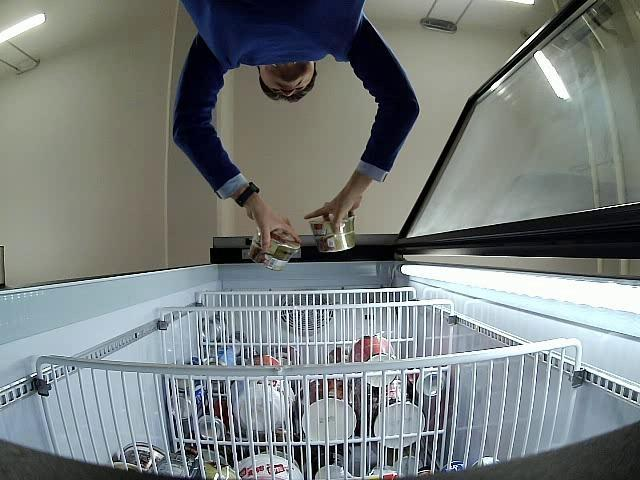03_chapagetti_L: (249, 228, 300, 270), (309, 216, 356, 252)
